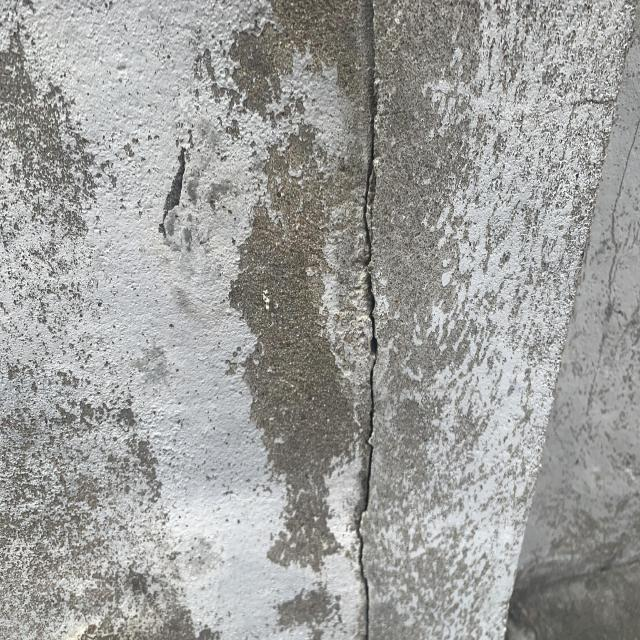SurfaceCrack: (292, 1, 431, 640)
